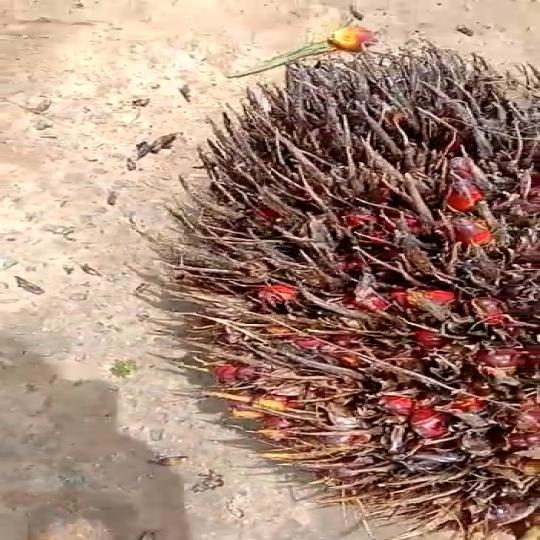terlalu masak: (163, 34, 540, 540)
